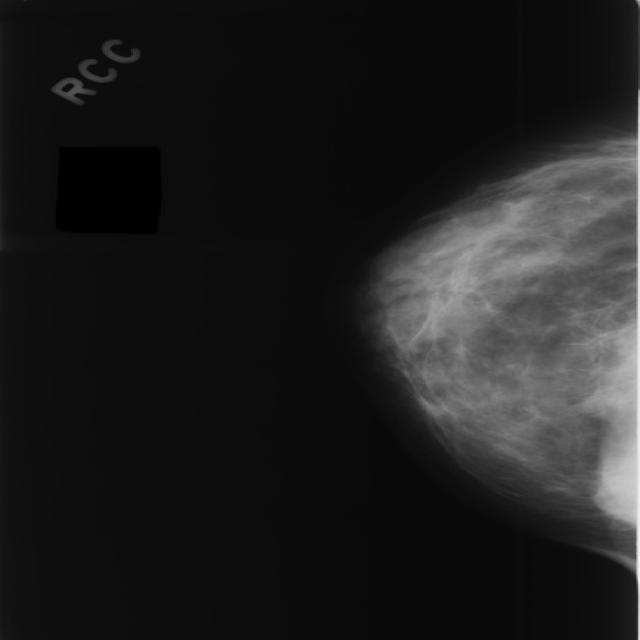tumour: (572, 381, 635, 418)
